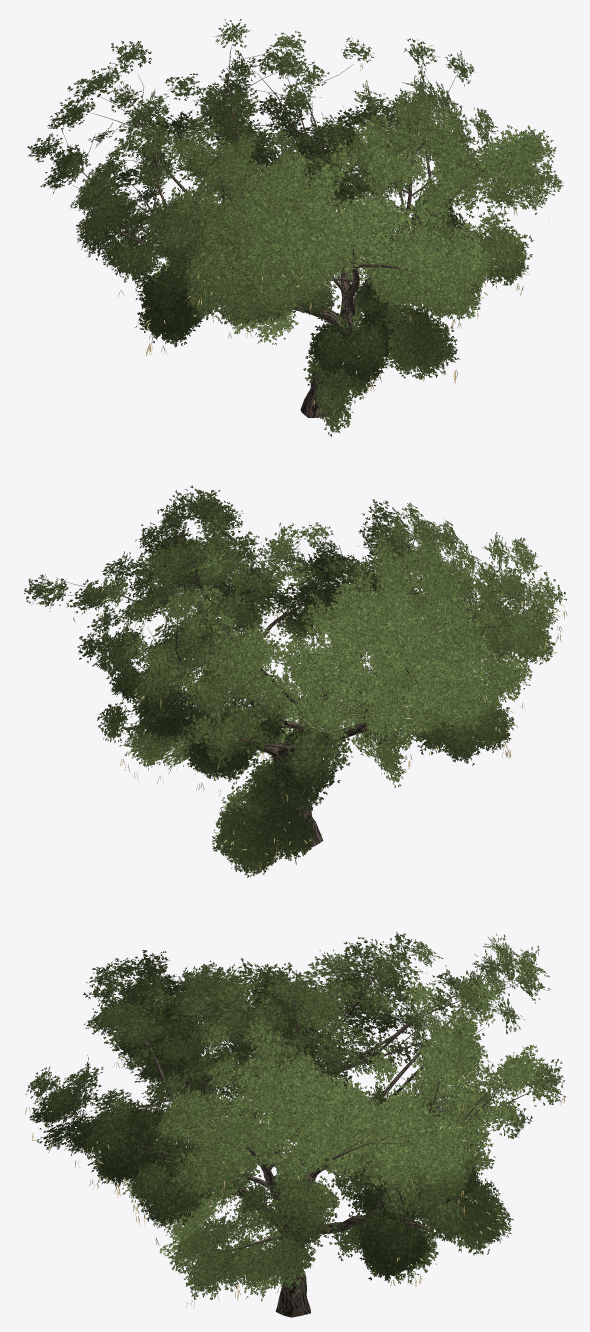
File: adult-a.lod0.glb
The picture shows the model from 3 angles, top to bottom: view 1: azimuth 30°, elevation 25°; view 2: azimuth 150°, elevation 25°; view 3: azimuth 270°, elevation 25°; orthographic projection. The views are drawn at different scales.
Parts seen in each view (by area): view 1: foliage, bark, fruit; view 2: foliage, bark, fruit; view 3: foliage, bark, fruit.
Part boxes in pixels (x1=…): foliage: x1=27, y1=18, x2=563, y2=437; bark: x1=61, y1=46, x2=520, y2=417; fruit: x1=50, y1=64, x2=548, y2=407; foliage: x1=24, y1=485, x2=567, y2=877; bark: x1=58, y1=511, x2=538, y2=847; fruit: x1=73, y1=526, x2=567, y2=869; foliage: x1=25, y1=931, x2=565, y2=1301; bark: x1=57, y1=963, x2=533, y2=1317; fruit: x1=25, y1=982, x2=564, y2=1308.
Size of the model in its own units: 10.48 by 7.5 by 10.67.
Materials: 5 (2 with a texture image).
